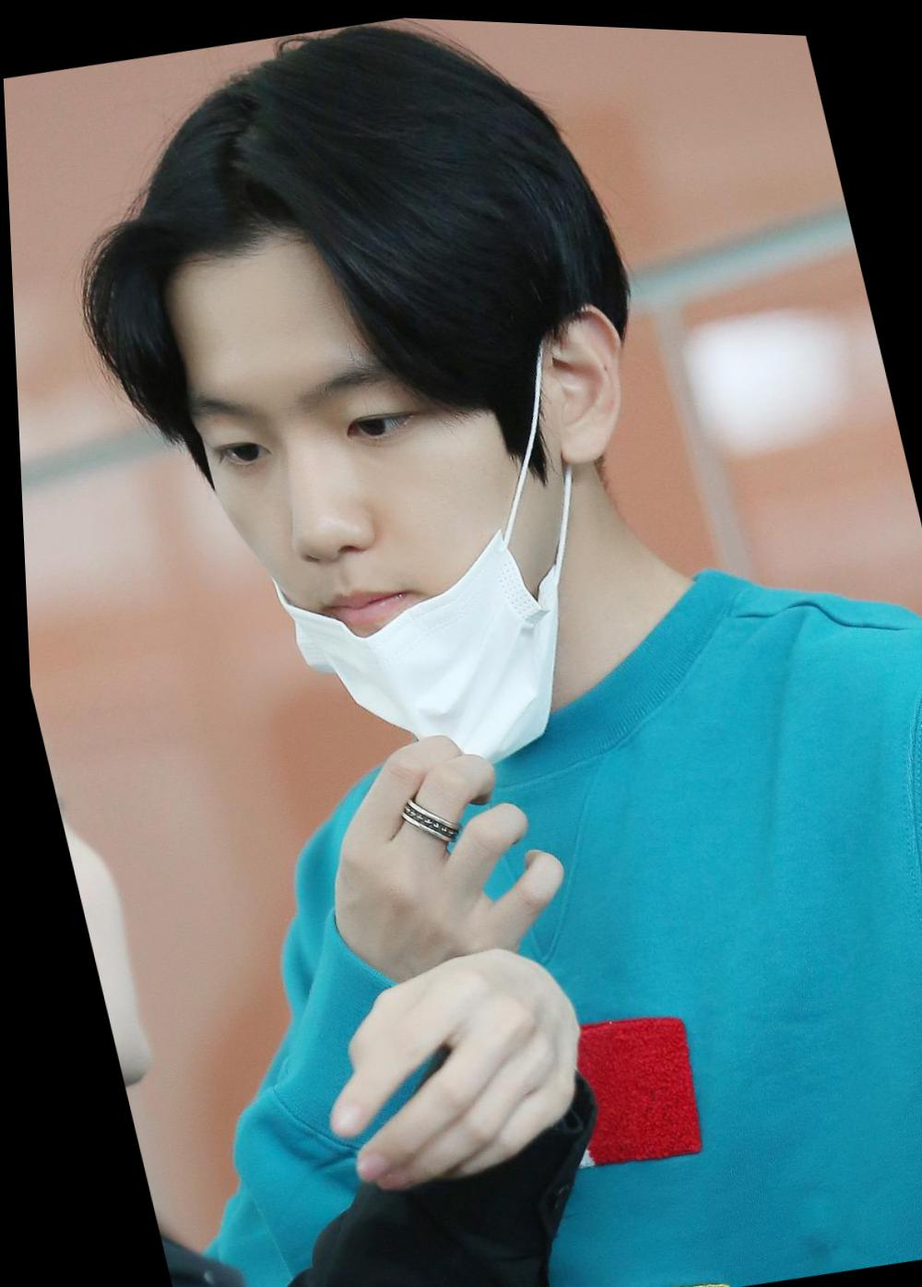WRONG: (169, 272, 602, 779)
